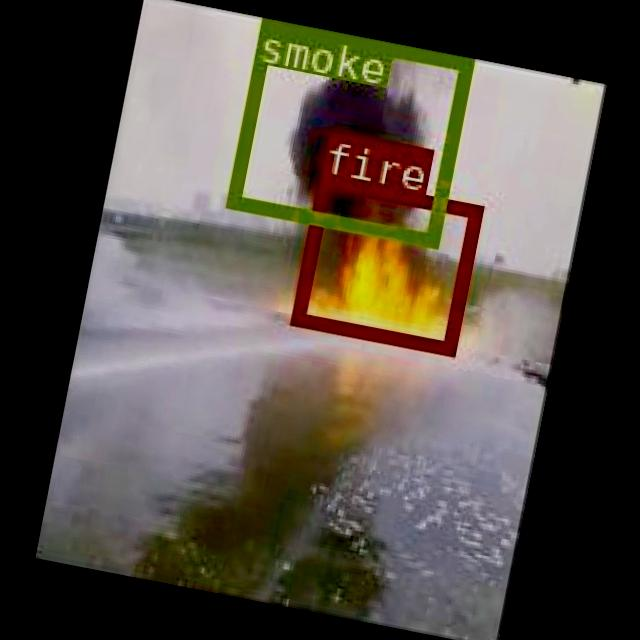fire: (290, 172, 480, 352)
smoke: (226, 15, 472, 244)
